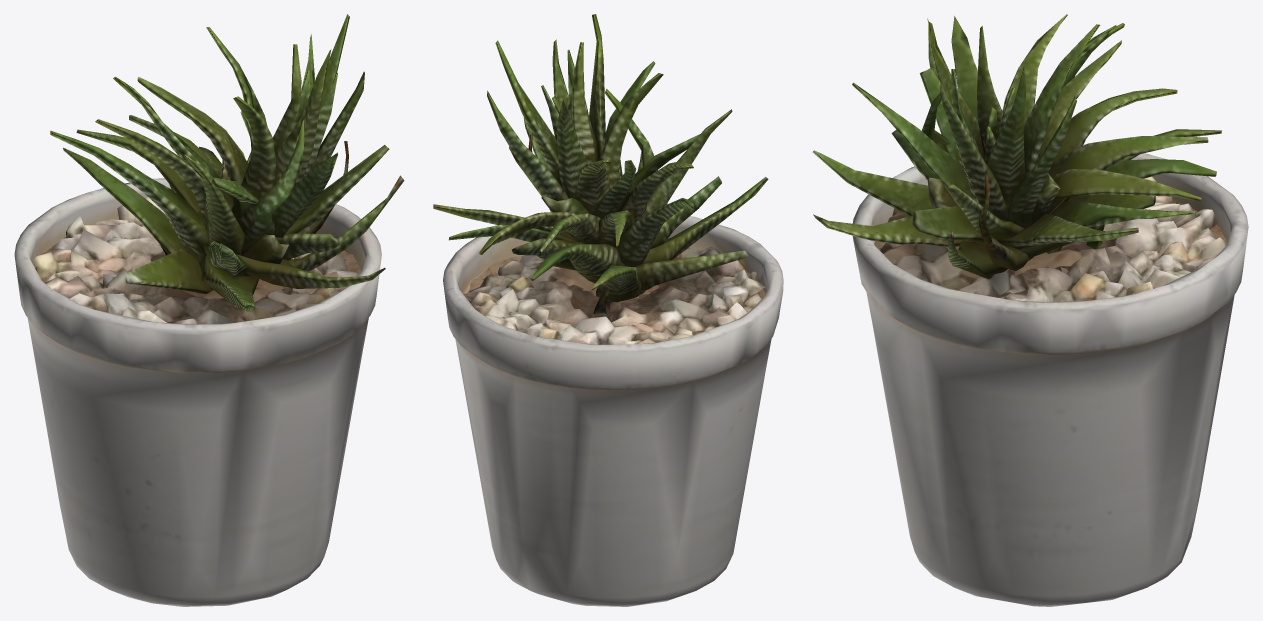
Rendered from gb-plant.glb.
3 renders of one model, left to right at view 1: azimuth 30°, elevation 25°; view 2: azimuth 150°, elevation 25°; view 3: azimuth 270°, elevation 25°, orthographic. The views are drawn at different scales.
Visible parts, largest first — view 1: potted_plant_04_ground; view 2: potted_plant_04_ground; view 3: potted_plant_04_ground.
Boxes of the visible parts, left/top/right/bottom form: potted_plant_04_ground: left=14, top=14, right=404, bottom=606; potted_plant_04_ground: left=433, top=14, right=783, bottom=606; potted_plant_04_ground: left=812, top=14, right=1248, bottom=606.
Size of the model in its own units: 0.1672 by 0.2672 by 0.1841.
Materials: 1 (1 with a texture image).
